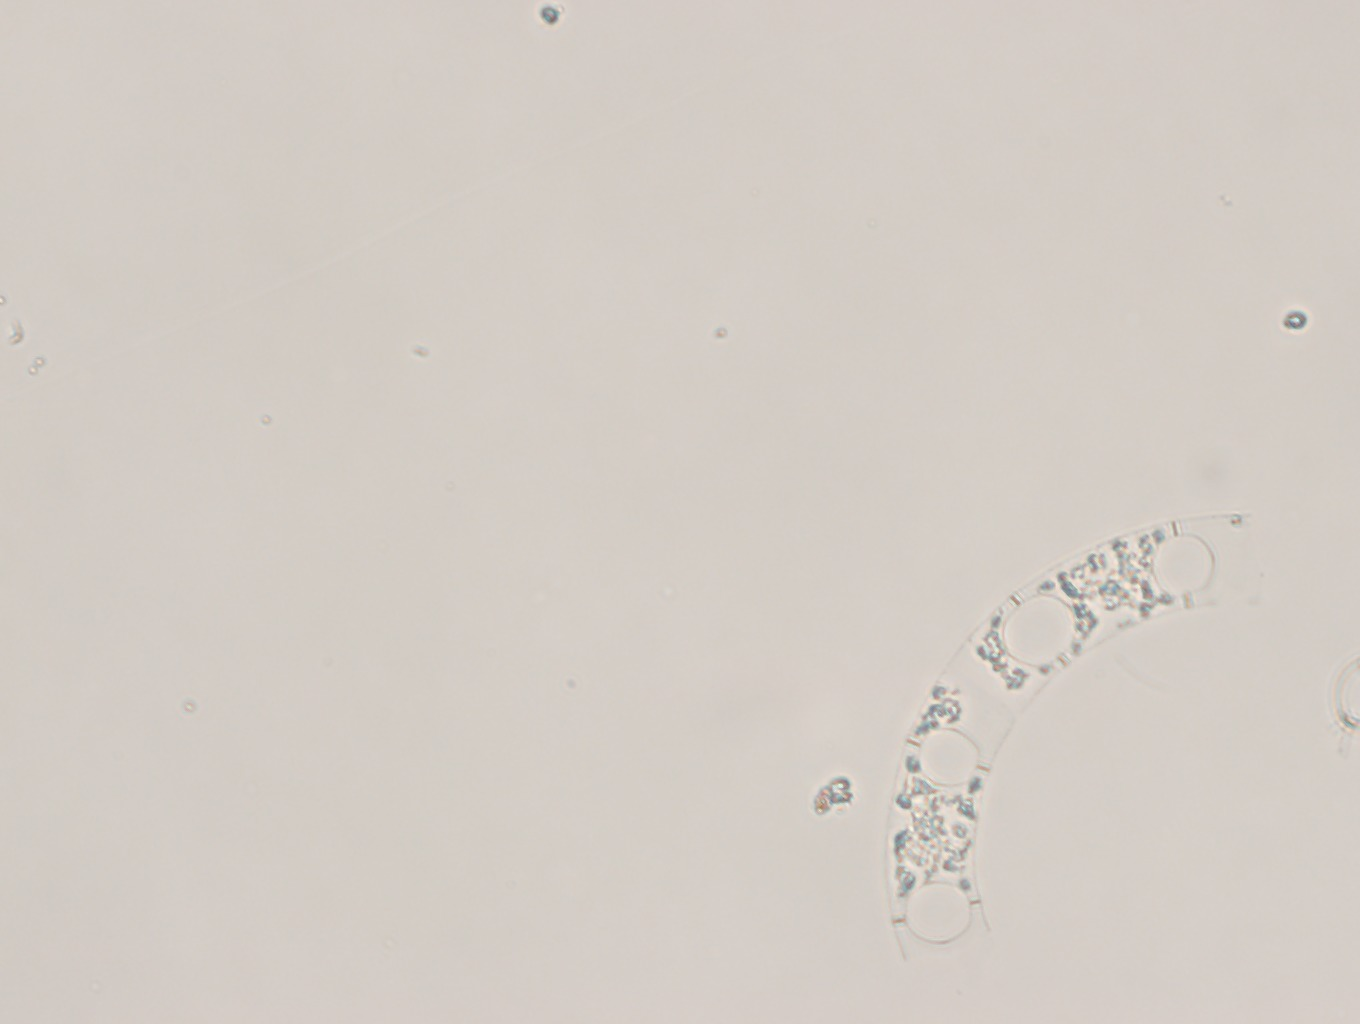eucampia: (883, 513, 1256, 968)
